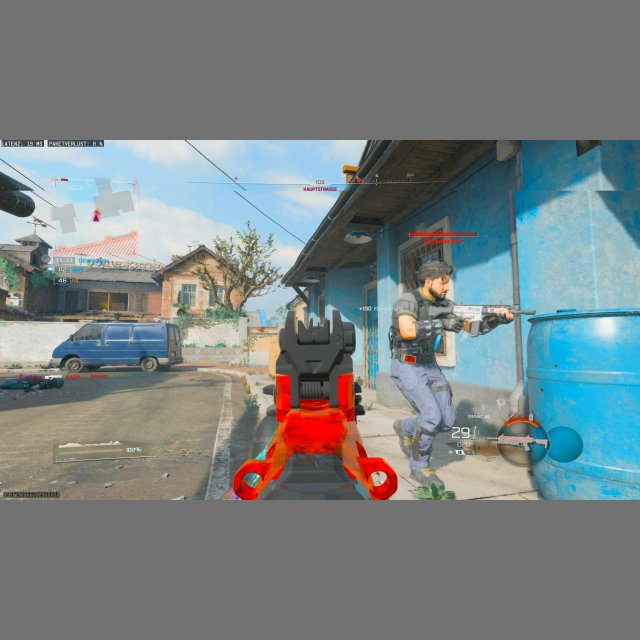head: (418, 258, 453, 299)
player: (388, 257, 515, 497)
